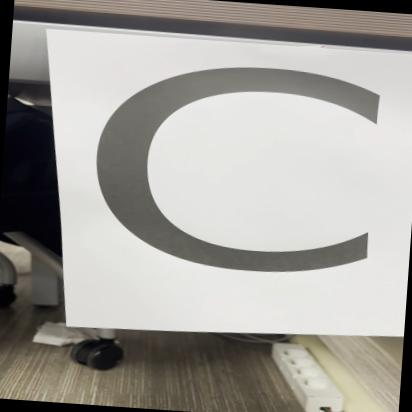seat: (28, 29, 412, 350)
